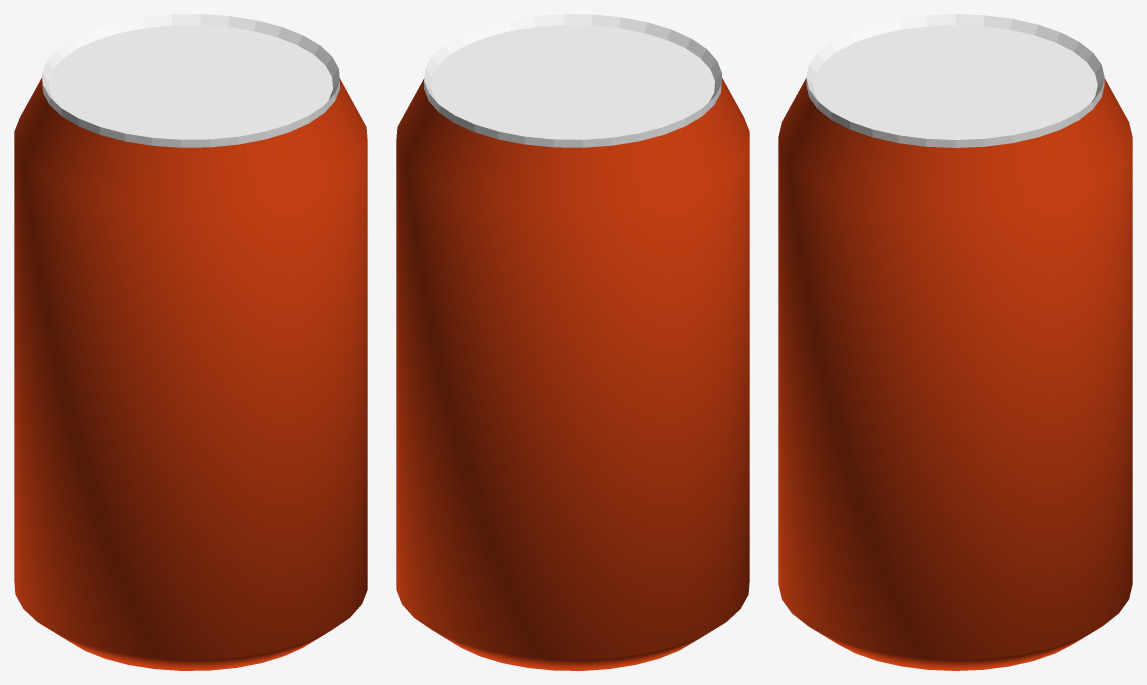
Rendered from Cola_Mesh.fbx.
3 views of the same model, side by side, from view 1: azimuth 30°, elevation 25°; view 2: azimuth 150°, elevation 25°; view 3: azimuth 270°, elevation 25° (orthographic).
Visible parts, largest first — view 1: 柱体; view 2: 柱体; view 3: 柱体.
Part boxes in pixels (x1,y1,x2,y2): 柱体: [14, 14, 367, 670]; 柱体: [396, 14, 749, 670]; 柱体: [778, 14, 1132, 670].
Size of the model in its own units: 200 by 333 by 200.
